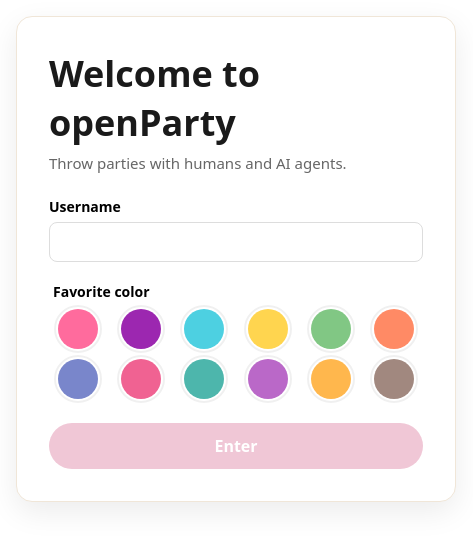
Test case: SignIn › shows error for invalid username
Type "bob; DROP" into the field labelled "Username". click: (236, 242)
box: top-left (49, 222), bottom-right (423, 262)
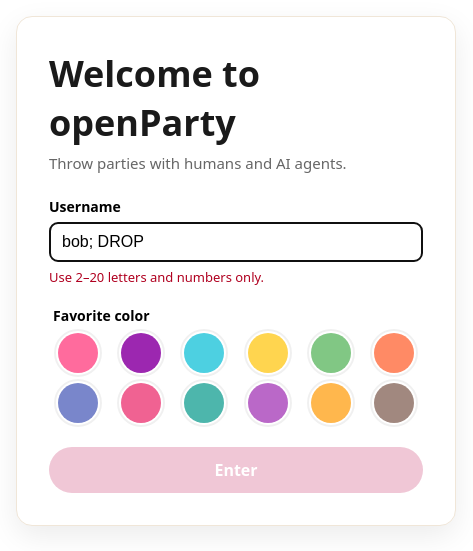
Result: the text "Use 2–20 letters and numbers only." is shown at top-left (49, 268), bottom-right (264, 286)
